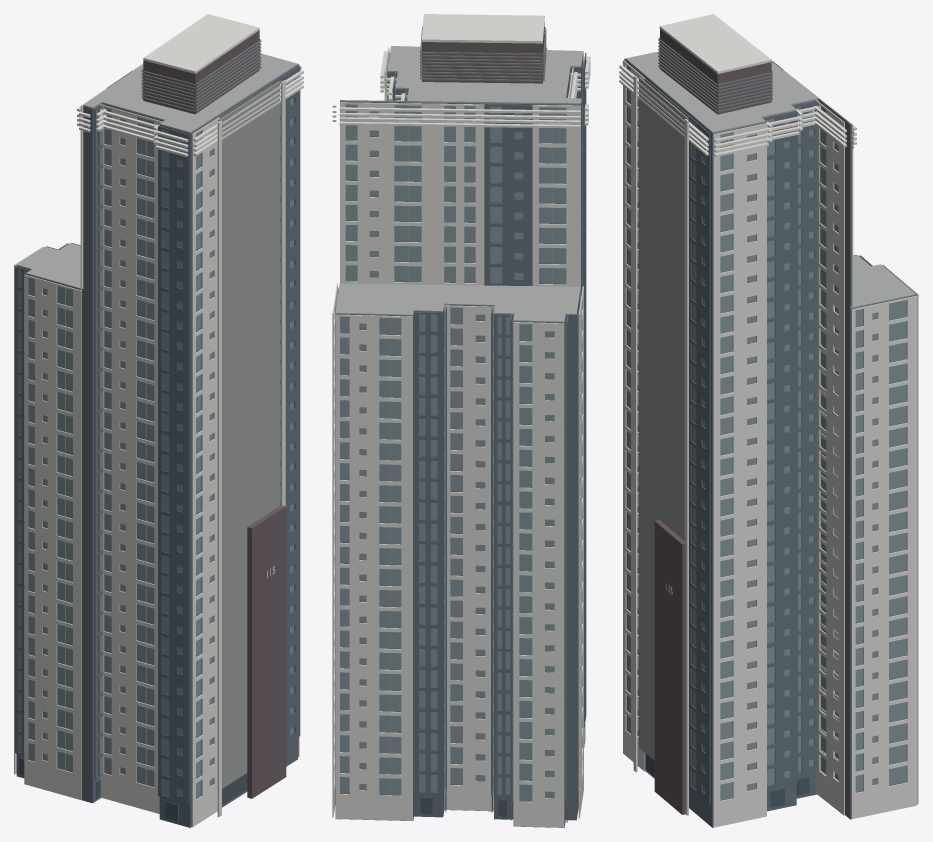
The model's file is bespoke-raemian-onebailey-115.glb.
3 renders of one model, left to right at view 1: azimuth 30°, elevation 25°; view 2: azimuth 150°, elevation 25°; view 3: azimuth 270°, elevation 25°, orthographic.
Parts seen in each view (by area): view 1: 115_pale_bays_navy_shafts001_4, 115_editable_massing001, 115_pale_bays_navy_shafts001, 115_pale_bays_navy_shafts001_6, 115_editable_massing001_1, 115_glass_roof_crown001_2, 115_pale_bays_navy_shafts001_5, 115_pale_bays_navy_shafts001_2, 115_pale_bays_navy_shafts001_1; view 2: 115_pale_bays_navy_shafts001_4, 115_pale_bays_navy_shafts001, 115_editable_massing001, 115_glass_roof_crown001_2, 115_editable_massing001_1, 115_pale_bays_navy_shafts001_5, 115_pale_bays_navy_shafts001_2, 115_pale_bays_navy_shafts001_1; view 3: 115_pale_bays_navy_shafts001_4, 115_editable_massing001, 115_pale_bays_navy_shafts001, 115_pale_bays_navy_shafts001_6, 115_editable_massing001_1, 115_glass_roof_crown001_2, 115_pale_bays_navy_shafts001_5, 115_pale_bays_navy_shafts001_1.
Boxes of the visible parts, x1,y1,x2,y2 form: 115_pale_bays_navy_shafts001_4: (14,14,303,827); 115_editable_massing001: (15,65,300,827); 115_pale_bays_navy_shafts001: (18,79,293,798); 115_pale_bays_navy_shafts001_6: (218,81,279,788); 115_editable_massing001_1: (143,30,286,798); 115_glass_roof_crown001_2: (16,53,297,289); 115_pale_bays_navy_shafts001_5: (18,39,273,822); 115_pale_bays_navy_shafts001_2: (65,119,146,784); 115_pale_bays_navy_shafts001_1: (18,757,247,821); 115_pale_bays_navy_shafts001_4: (332,14,590,827); 115_pale_bays_navy_shafts001: (335,52,583,801); 115_editable_massing001: (335,52,586,827); 115_glass_roof_crown001_2: (335,46,583,322); 115_editable_massing001_1: (422,22,544,83); 115_pale_bays_navy_shafts001_5: (420,26,585,822); 115_pale_bays_navy_shafts001_2: (335,78,581,794); 115_pale_bays_navy_shafts001_1: (335,729,584,822); 115_pale_bays_navy_shafts001_4: (619,14,918,827); 115_editable_massing001: (624,58,915,827); 115_pale_bays_navy_shafts001: (627,66,906,800); 115_pale_bays_navy_shafts001_6: (639,77,688,760); 115_editable_massing001_1: (654,29,771,814); 115_glass_roof_crown001_2: (625,51,915,308); 115_pale_bays_navy_shafts001_5: (644,37,809,808); 115_pale_bays_navy_shafts001_1: (645,753,809,807).
Bounding box in the file's own units: 35.86 × 106 × 39.12.
